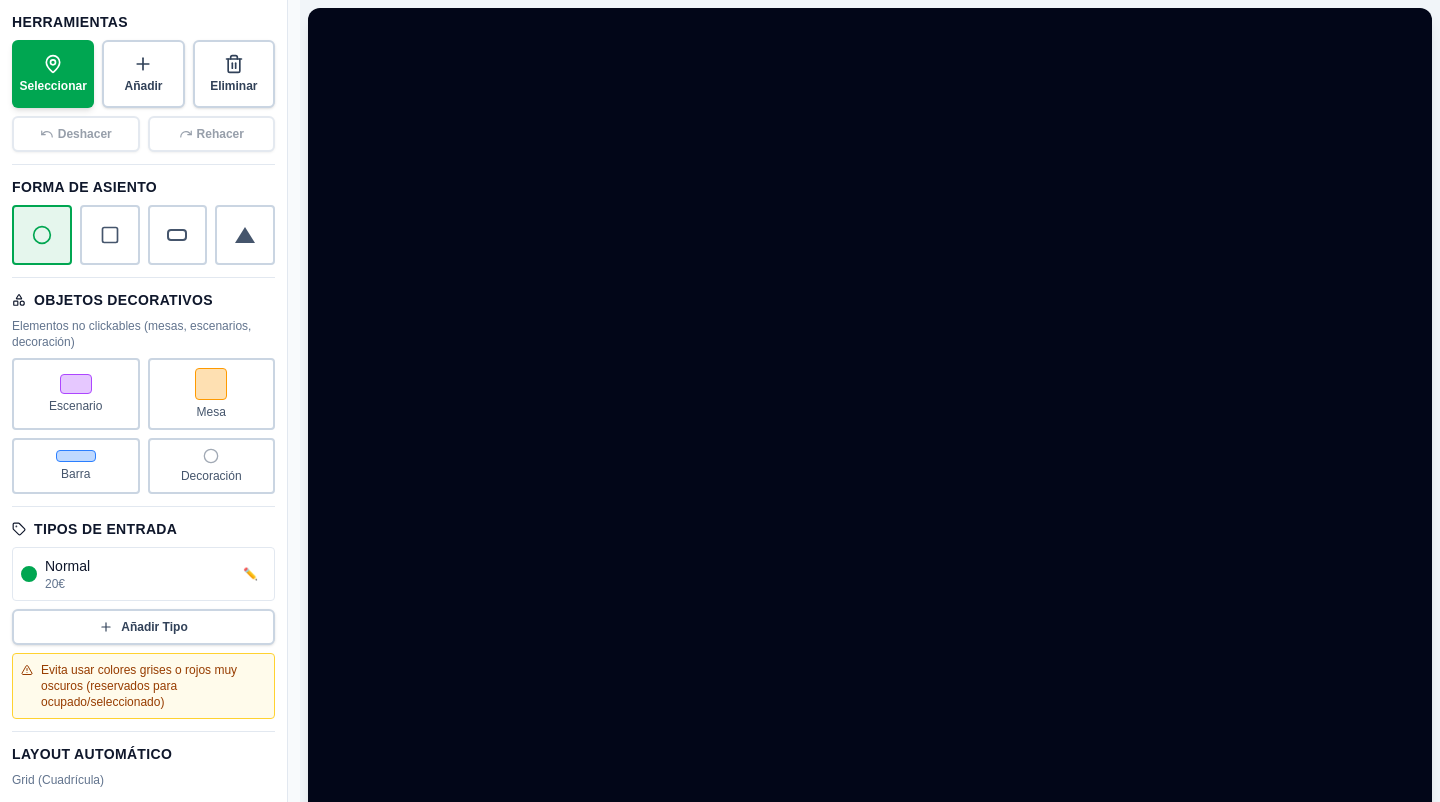
SeatMapEditor › permite editar un tipo de entrada
Click the button titled "Editar". click: click(250, 574)
box: [235,562,266,586]
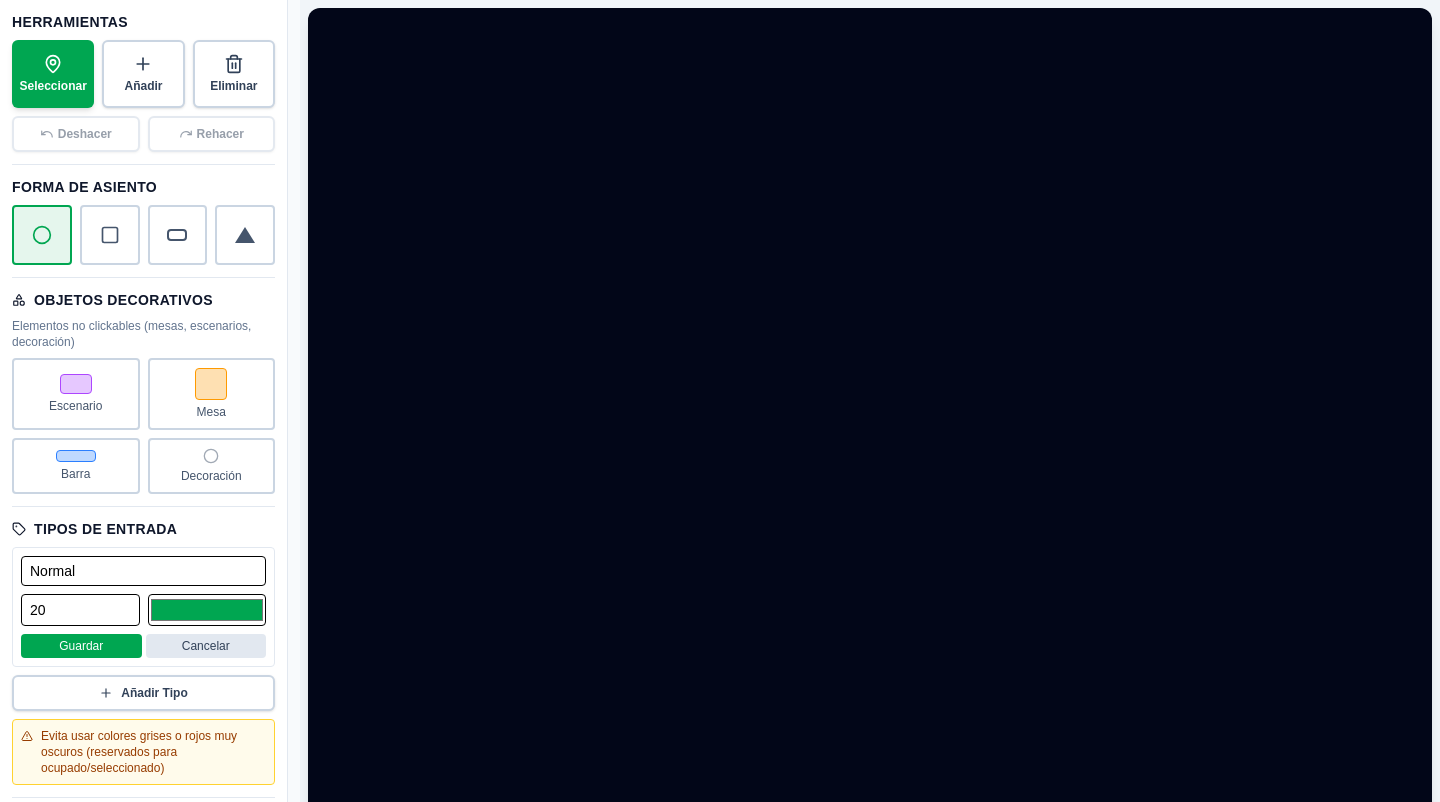
Expected: the field with placeholder "Nombre" is shown, [21,556,266,586]
